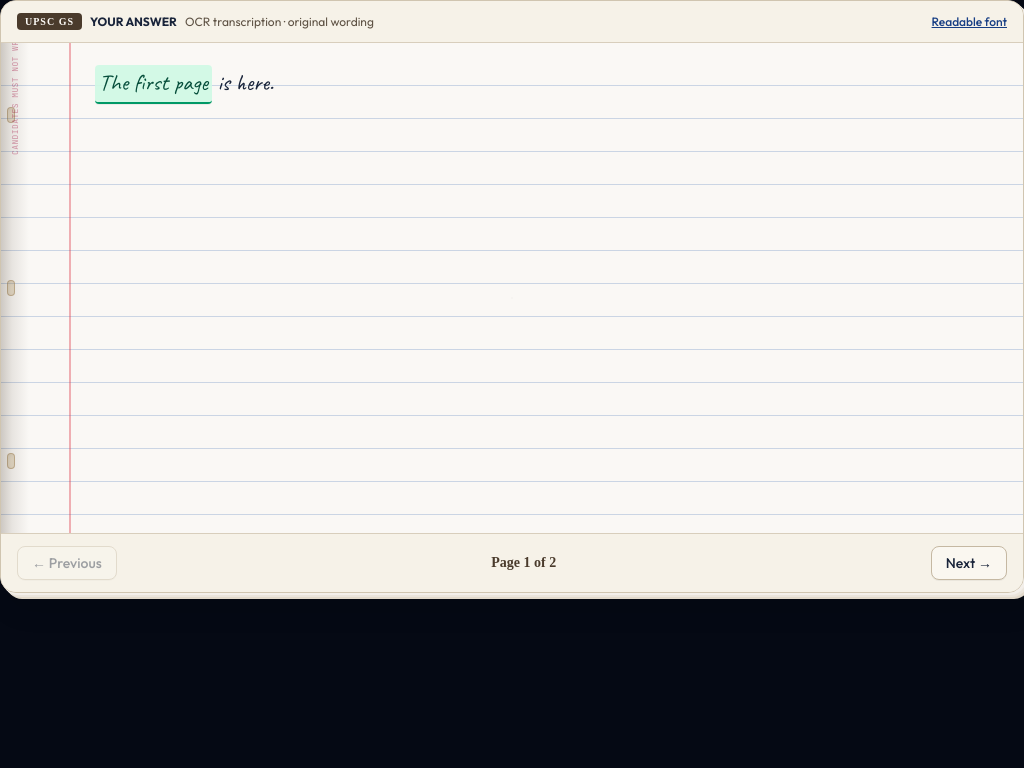
Test case: virtual answer booklet › shows saved words, exact feedback, page controls, and a readable font switch
Check: the text "Page 1 of 2" is shown, box [491,553,556,573]
Click the button with aria-label "Feedback: What worked". click: x=154, y=85
box: [95,65,212,104]
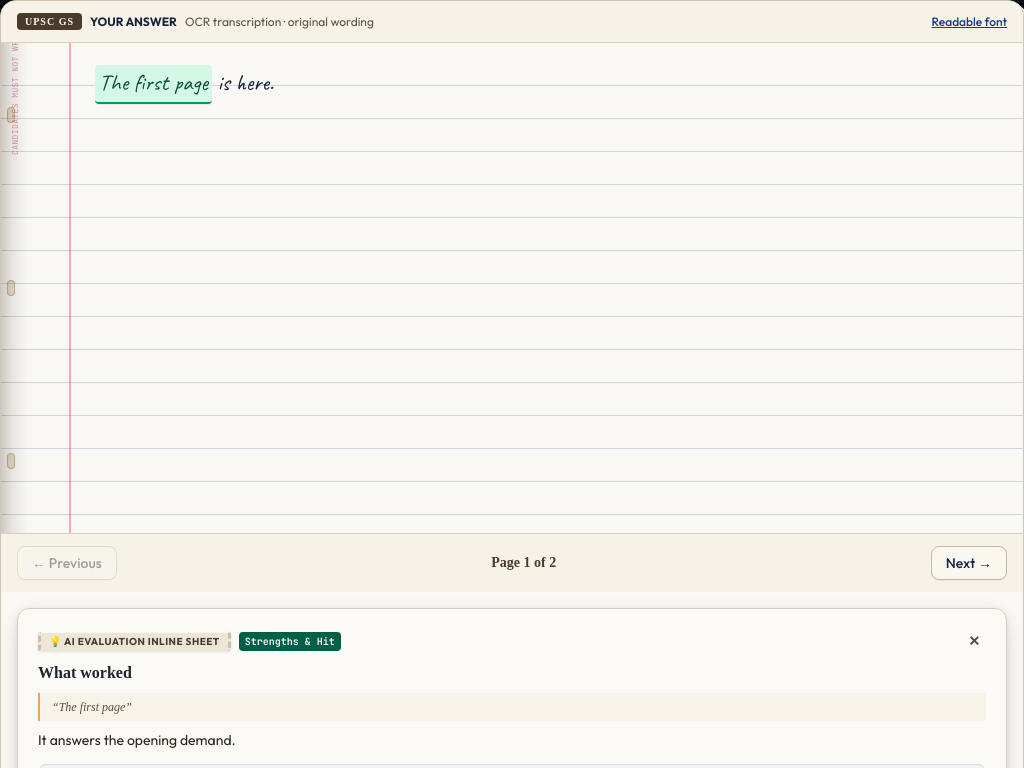
Check: the text "It answers the opening demand." is shown, box [38,731,236,749]
Click the button "Readable font". click: x=969, y=22
box: [932,14,1007,30]
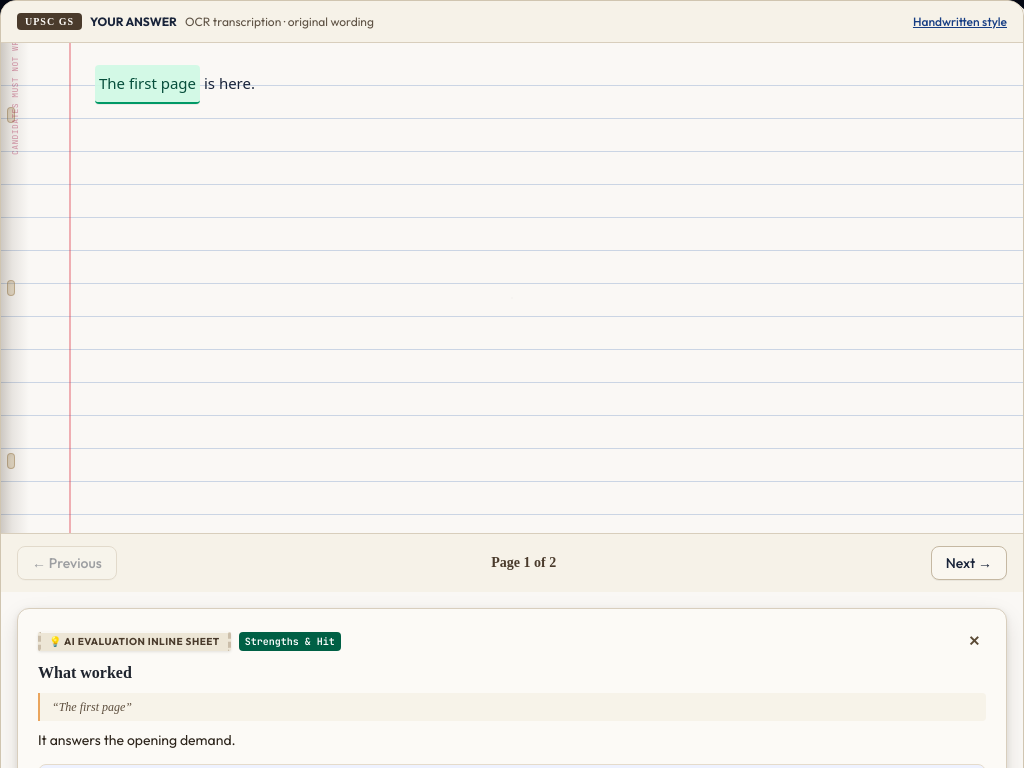
Check: the button "Handwritten style" is shown, box [913,14,1007,30]
Click the button "Next →". click: x=969, y=563
box: [931,546,1007,580]
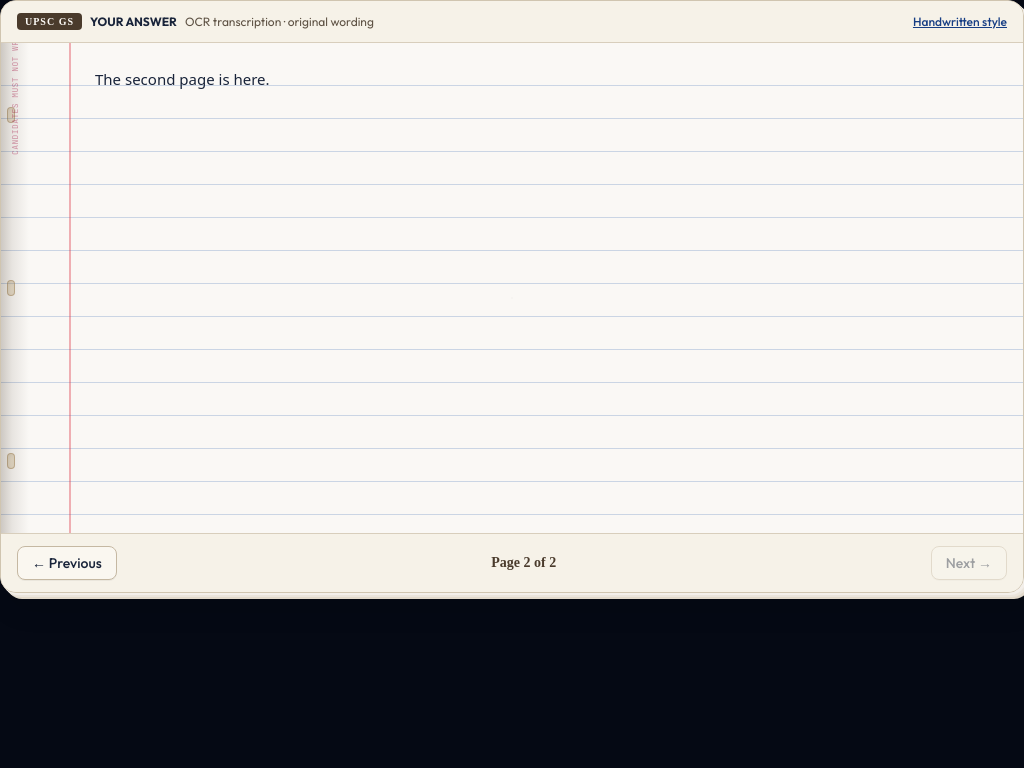
Check: the text "The second page is here." is shown, box [95,69,270,89]
Check: the text "Page 2 of 2" is shown, box [491,553,556,573]
